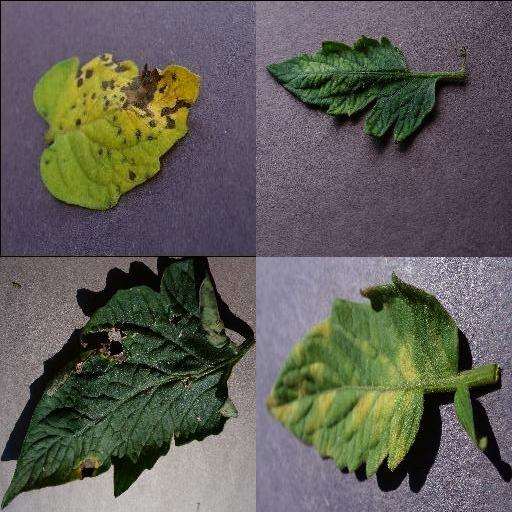Early Blight: (2, 258, 238, 510)
Leaf Mold: (265, 271, 459, 477)
Mosaic Virus: (264, 35, 438, 143)
Septoria: (30, 54, 202, 212)
